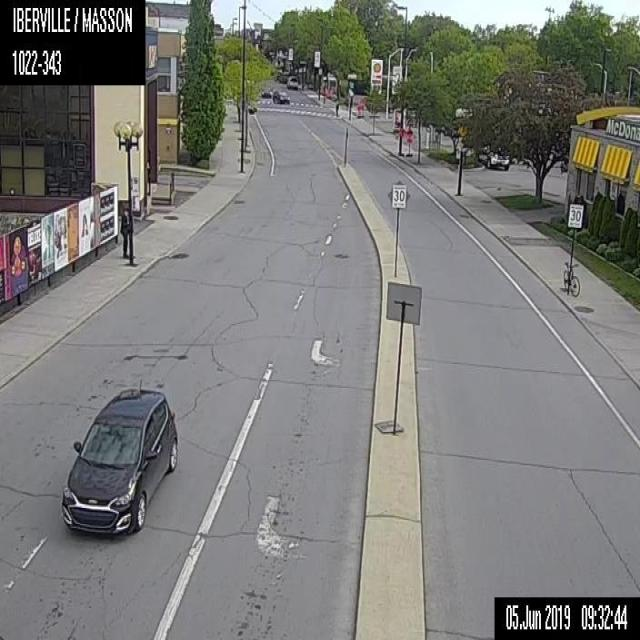construction: (402, 126, 414, 154)
pedestrian: (120, 201, 129, 259), (334, 99, 339, 116)
vehicle: (60, 386, 177, 538), (477, 137, 510, 170), (271, 89, 290, 102), (259, 84, 273, 98), (286, 75, 298, 89)
